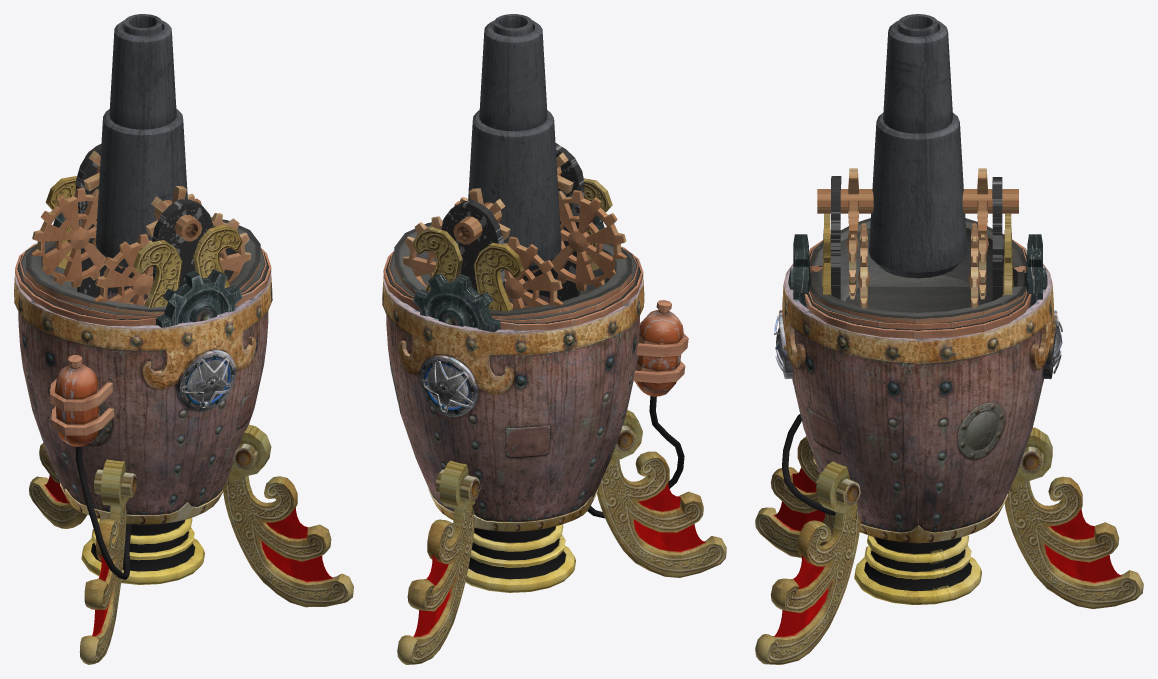
The model's file is astrogun.obj.
3 views of the same model, side by side, from view 1: azimuth 30°, elevation 25°; view 2: azimuth 150°, elevation 25°; view 3: azimuth 270°, elevation 25° (orthographic). The views are drawn at different scales.
Parts seen in each view (by area): view 1: astrogun; view 2: astrogun; view 3: astrogun.
Boxes of the visible parts, <box> form: astrogun: <box>14,14,353,664</box>; astrogun: <box>382,14,726,664</box>; astrogun: <box>755,14,1143,664</box>.
Size of the model in its own units: 2.1 by 4.17 by 2.51.
